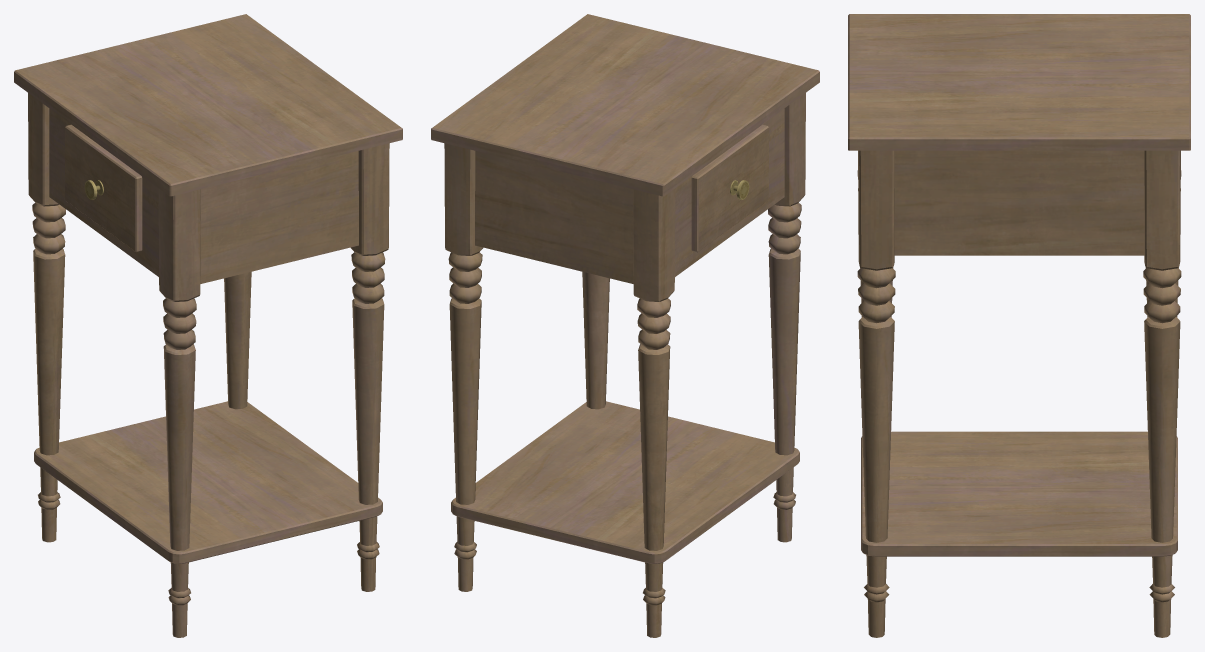
File: bedside_table_2.glb
The picture shows the model from 3 angles, left to right: view 1: azimuth 30°, elevation 25°; view 2: azimuth 150°, elevation 25°; view 3: azimuth 270°, elevation 25°; orthographic projection. The views are drawn at different scales.
Visible parts, largest first — view 1: BedsideTable_a; view 2: BedsideTable_a; view 3: BedsideTable_a.
Part boxes in pixels (x1,y1,x2,y2): BedsideTable_a: (14,14,402,637); BedsideTable_a: (431,14,819,637); BedsideTable_a: (848,14,1190,637).
Bounding box in the file's own units: 0.3671 × 0.6927 × 0.4232.
2 materials, 2 textured.
